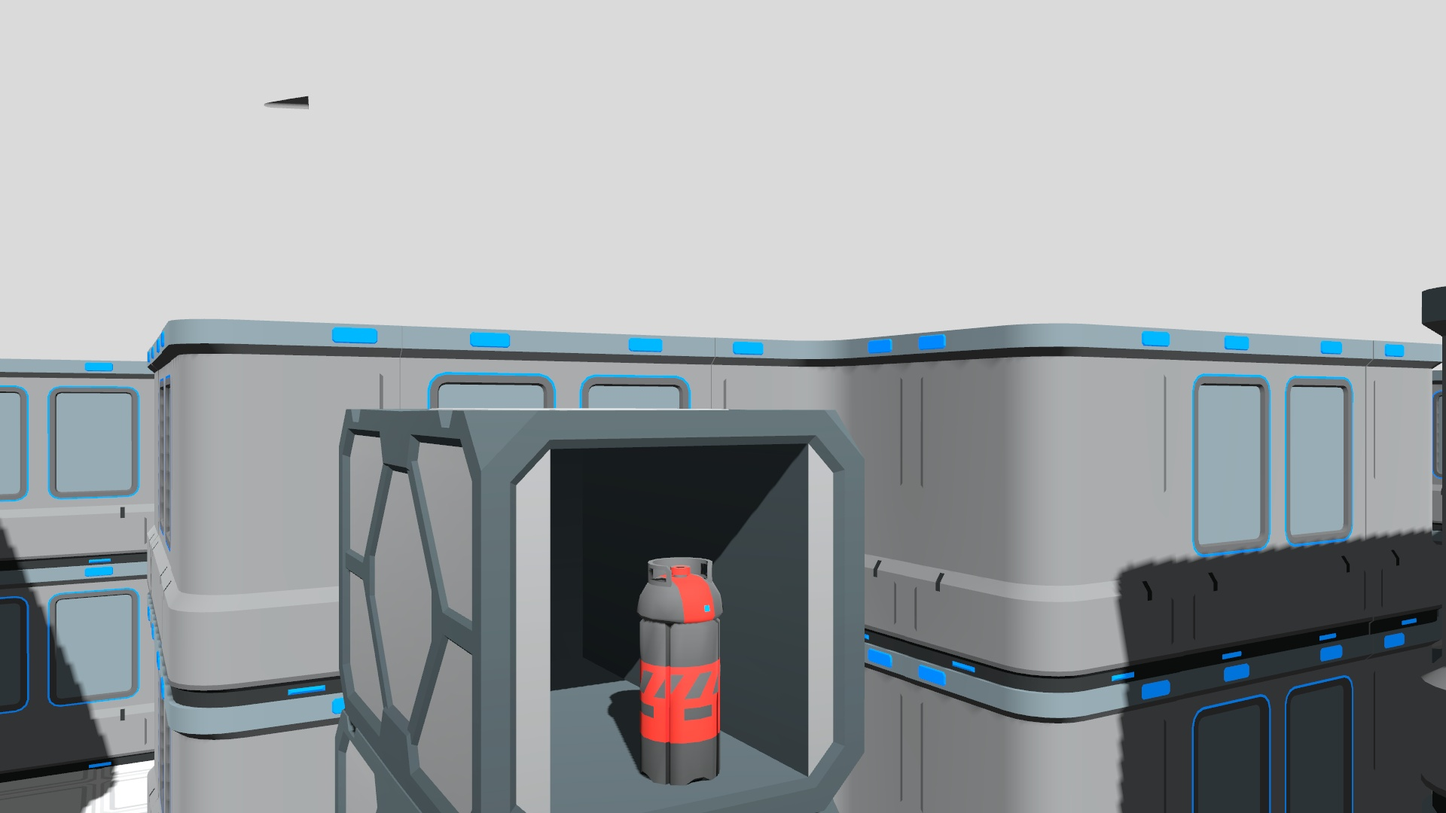red_barrel: (633, 551, 726, 792)
